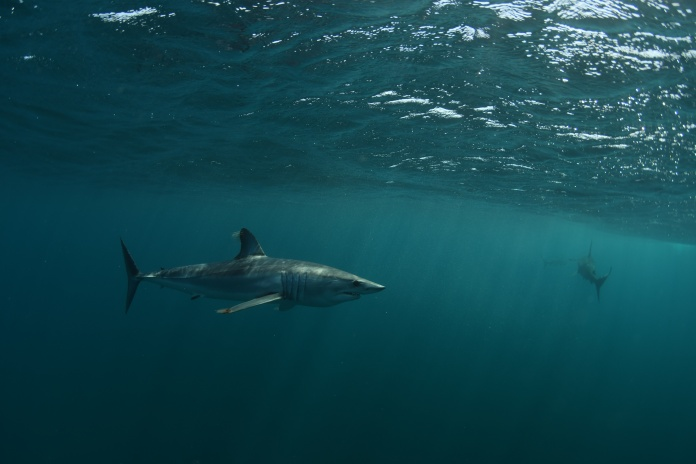Mako: (112, 224, 389, 332)
